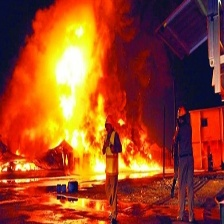fire: (50, 19, 95, 123), (88, 142, 162, 172), (2, 155, 38, 174), (52, 131, 88, 150)
smoke: (101, 5, 167, 138), (7, 3, 40, 150)
